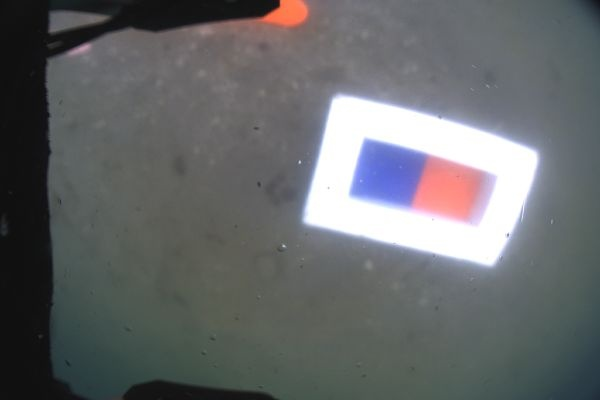bin: (301, 94, 538, 266)
bin_bleue: (350, 138, 428, 204)
bin_rouge: (410, 156, 484, 218)
path: (256, 0, 308, 26)
